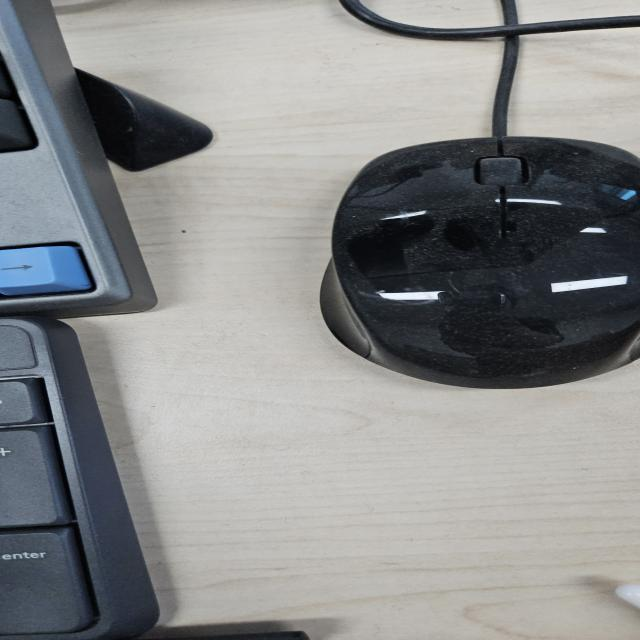Keyboard: (1, 314, 162, 638)
Mouse: (317, 134, 637, 390)
